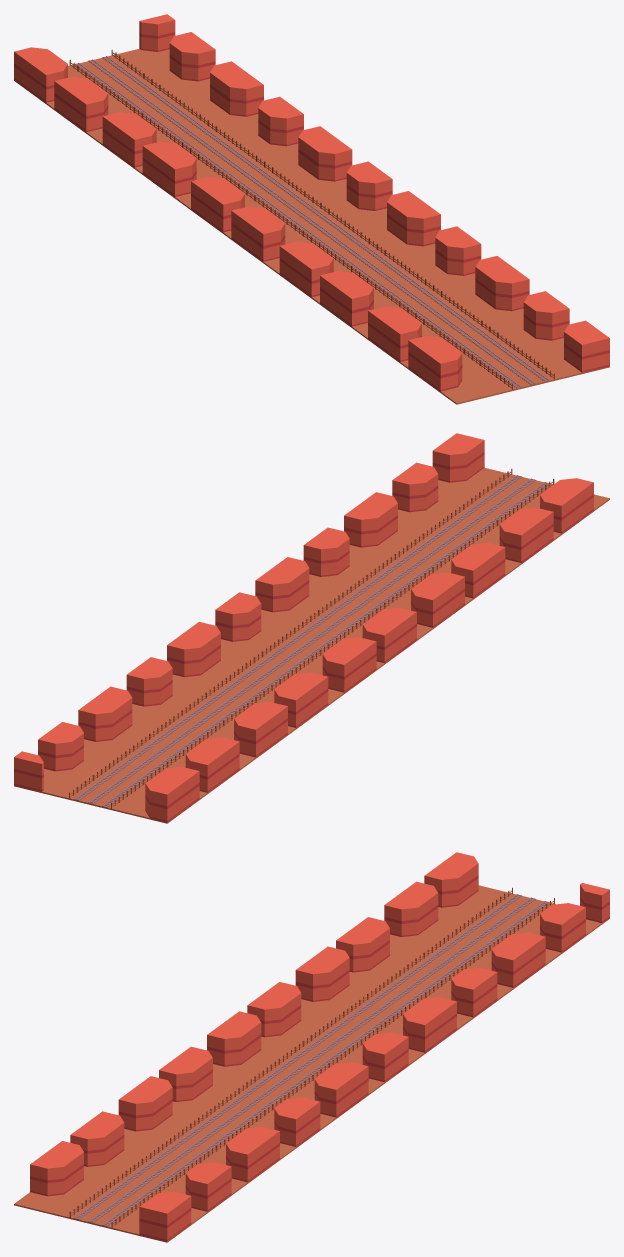
The model's file is platform test.obj.
The picture shows the model from 3 angles, top to bottom: view 1: azimuth 30°, elevation 25°; view 2: azimuth 150°, elevation 25°; view 3: azimuth 330°, elevation 25°; orthographic projection.
Parts seen in each view (by area): view 1: mergedBlocks; view 2: mergedBlocks; view 3: mergedBlocks.
Boxes of the visible parts, x1,y1,x2,y2 form: mergedBlocks: [14, 14, 609, 404]; mergedBlocks: [14, 433, 609, 823]; mergedBlocks: [14, 852, 609, 1242].
Bounding box in the file's own units: 11 × 2 × 55.
